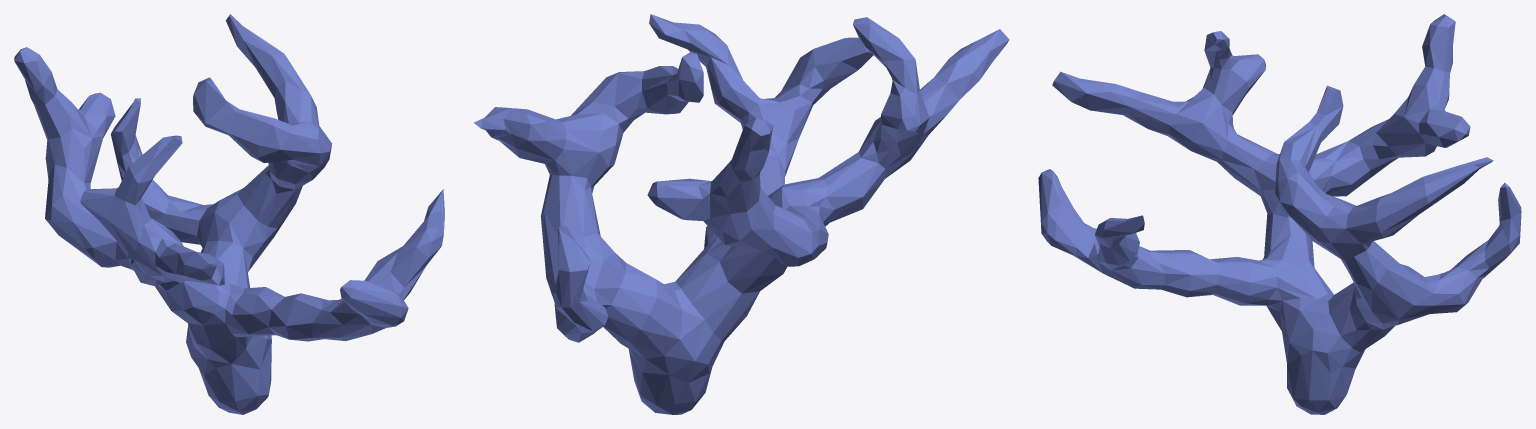
Rendered from Coral1.glb.
3 renders of one model, left to right at view 1: azimuth 30°, elevation 25°; view 2: azimuth 150°, elevation 25°; view 3: azimuth 270°, elevation 25°, orthographic. The views are drawn at different scales.
Parts seen in each view (by area): view 1: Coral.001; view 2: Coral.001; view 3: Coral.001.
Part boxes in pixels (<box>): Coral.001: <box>14,14,444,414</box>; Coral.001: <box>474,14,1009,414</box>; Coral.001: <box>1038,14,1521,414</box>.
Bounding box in the file's own units: 46.08 × 50.65 × 67.41.
